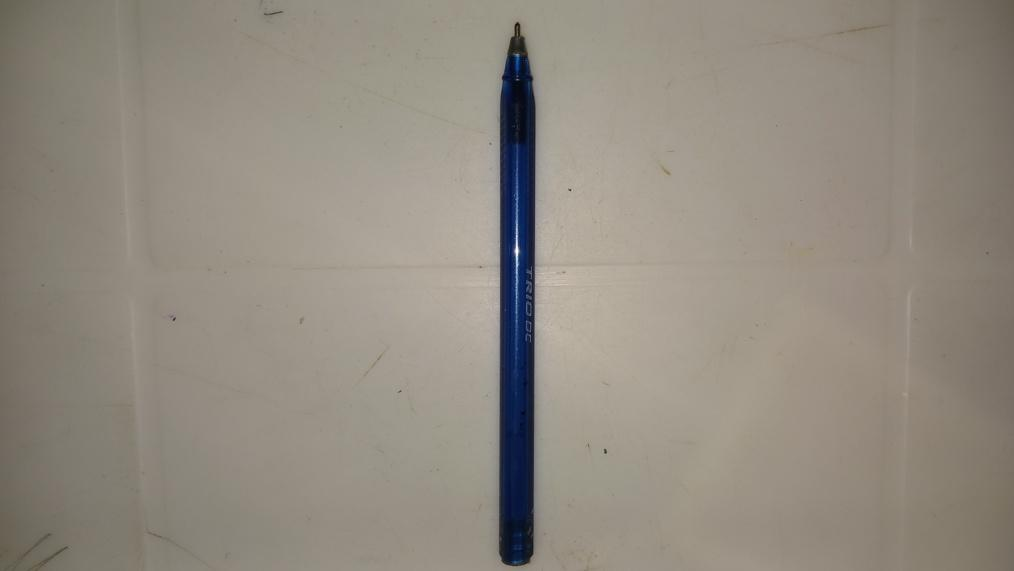pen: (499, 16, 535, 563)
